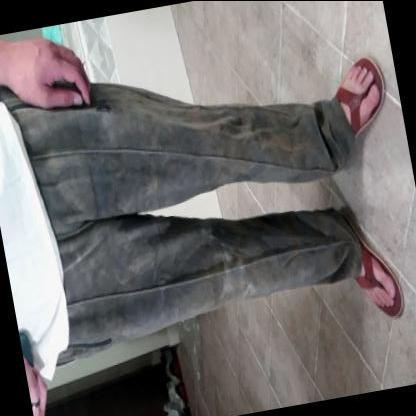no_safety-shoe: (311, 24, 406, 162), (339, 199, 415, 341)
